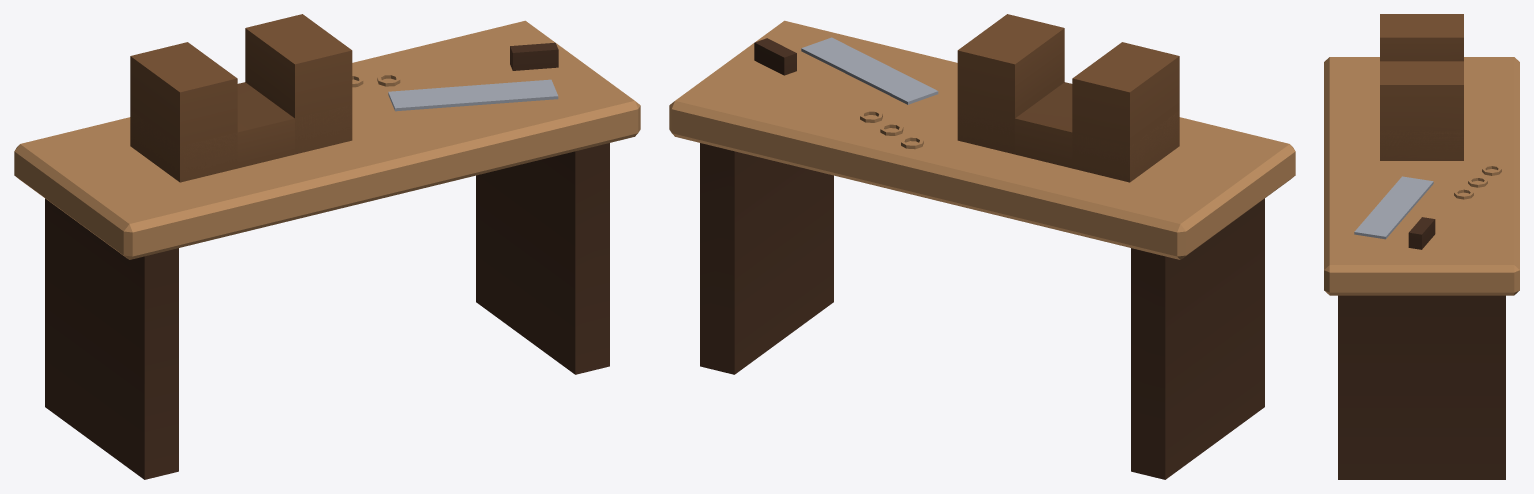
The model's file is wood_bench.glb.
The picture shows the model from 3 angles, left to right: view 1: azimuth 30°, elevation 25°; view 2: azimuth 150°, elevation 25°; view 3: azimuth 270°, elevation 25°; orthographic projection. The views are drawn at different scales.
Visible parts, largest first — view 1: wood_bench; view 2: wood_bench; view 3: wood_bench.
Part boxes in pixels (left/top/right/bottom): wood_bench: left=14, top=14, right=640, bottom=479; wood_bench: left=669, top=14, right=1295, bottom=479; wood_bench: left=1324, top=14, right=1519, bottom=479.
Size of the model in its own units: 1.8 by 1.18 by 0.7.
